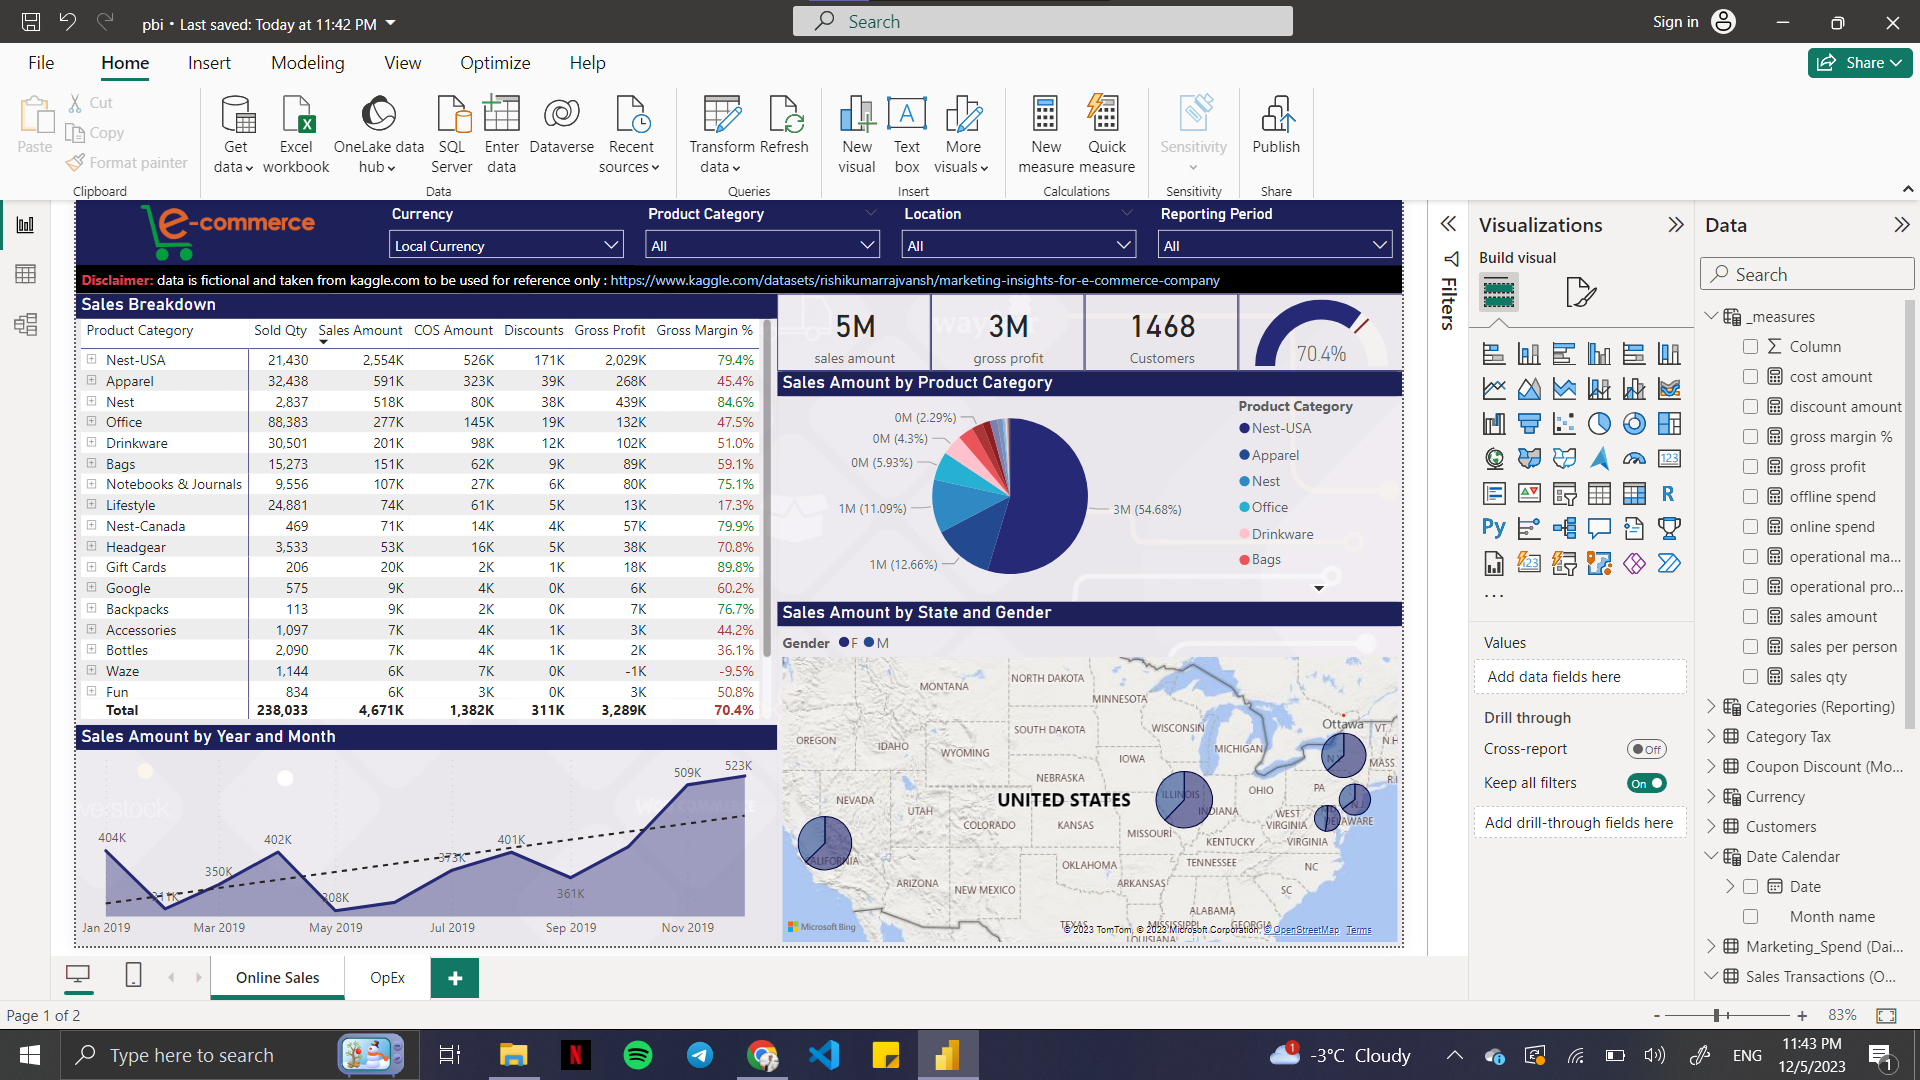

The dashboard page shown, as its layout file describes it:
{"tool":"powerbi","page":{"name":"Online Sales","canvas":[1280,720],"ordinal":0},"visuals":[{"type":"shape","box":[0,0,1280.3,63.1],"z":0},{"type":"pivotTable","title":"Sales Breakdown","fields":{"Rows":["Categories (Reporting).Product_Category","Sales Transactions (Online).Product_Description","Sales Transactions (Online).Product_SKU"],"Values":["_measures.sales qty","_measures.sales amount","_measures.billed amount","_measures.discount amount","_measures.profit","_measures.margin %"]},"box":[0,90.6,676.5,415.8],"z":1000},{"type":"areaChart","fields":{"Category":["Date Calendar.Date.Variation.Date Hierarchy.Year","Date Calendar.Date.Variation.Date Hierarchy.Month"],"Y":["_measures.sales amount"]},"box":[0,506.3,676.5,214.1],"z":2000},{"type":"map","fields":{"Size":["_measures.sales amount"],"Category":["Customers.State"],"Series":["Customers.Gender"]},"box":[676.5,387,603.8,333.4],"z":3000},{"type":"pieChart","fields":{"Category":["Sales Transactions (Online).Product_Category"],"Y":["_measures.sales amount"]},"box":[676.5,164.7,603.8,222.3],"z":4000},{"type":"card","fields":{"Values":["_measures.sales amount"]},"box":[676.5,90.6,148.2,74.1],"z":5000},{"type":"gauge","fields":{"Y":["_measures.margin %"]},"box":[1121.1,90.6,159.2,74.1],"z":6000},{"type":"card","fields":{"Values":["Count(Sales Transactions (Online).CustomerID)"]},"box":[972.9,90.6,148.2,74.1],"z":7000},{"type":"card","fields":{"Values":["_measures.profit"]},"box":[824.7,90.6,148.2,74.1],"z":8000},{"type":"slicer","fields":{"Values":["Currency.Value"]},"box":[292.3,0,247,63.1],"z":12000},{"type":"textbox","box":[0,63.1,1280.3,27.4],"z":13000},{"type":"image","box":[0,0,292.3,63.1],"z":14000},{"type":"slicer","fields":{"Values":["Sales Transactions (Online).Product_Category"]},"box":[539.3,0,247,63.1],"z":14001},{"type":"slicer","fields":{"Values":["Customers.Location"]},"box":[786.3,0,247,63.1],"z":14002},{"type":"slicer","fields":{"Values":["Date Calendar.Date.Variation.Date Hierarchy.Quarter","Date Calendar.Date.Variation.Date Hierarchy.Month","Date Calendar.Date.Variation.Date Hierarchy.Day"]},"box":[1033.3,0,247,63.1],"z":14004}]}

Visuals, with their boxes on the page's 1280x720 design canvas (x1, y1, x2, y2). These are canvas units, not pixel positions in the 1920x1080 screenshot, which may show the page scaled, cropped or inside an application window:
shape: 0:0:1280:63
"Sales Breakdown" pivotTable: 0:91:676:506
areaChart - Date Calendar.Date.Variation.Date Hierarchy.Year x Date Calendar.Date.Variation.Date Hierarchy.Month: 0:506:676:720
map - _measures.sales amount x Customers.State: 676:387:1280:720
pieChart - Sales Transactions (Online).Product_Category x _measures.sales amount: 676:165:1280:387
card - _measures.sales amount: 676:91:825:165
gauge - _measures.margin %: 1121:91:1280:165
card - Count(Sales Transactions (Online).CustomerID): 973:91:1121:165
card - _measures.profit: 825:91:973:165
slicer - Currency.Value: 292:0:539:63
textbox: 0:63:1280:90
image: 0:0:292:63
slicer - Sales Transactions (Online).Product_Category: 539:0:786:63
slicer - Customers.Location: 786:0:1033:63
slicer - Date Calendar.Date.Variation.Date Hierarchy.Quarter x Date Calendar.Date.Variation.Date Hierarchy.Month: 1033:0:1280:63
